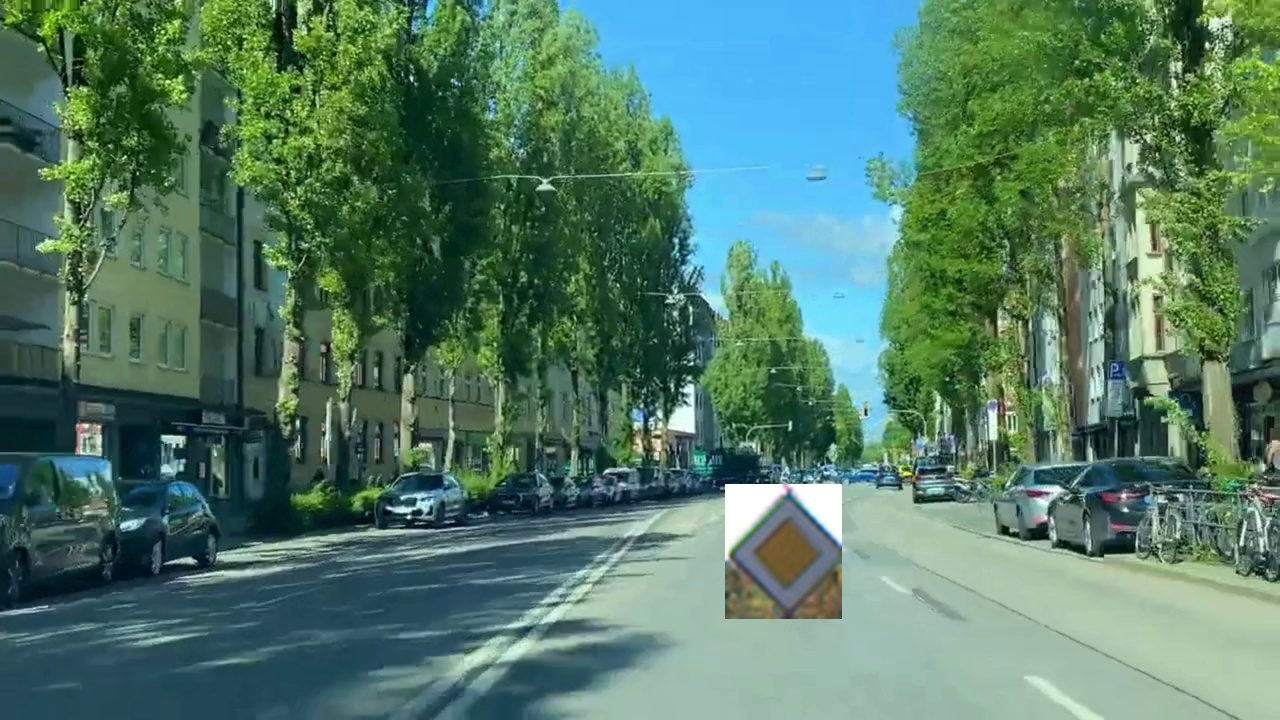Priority road: (725, 484, 842, 619)
